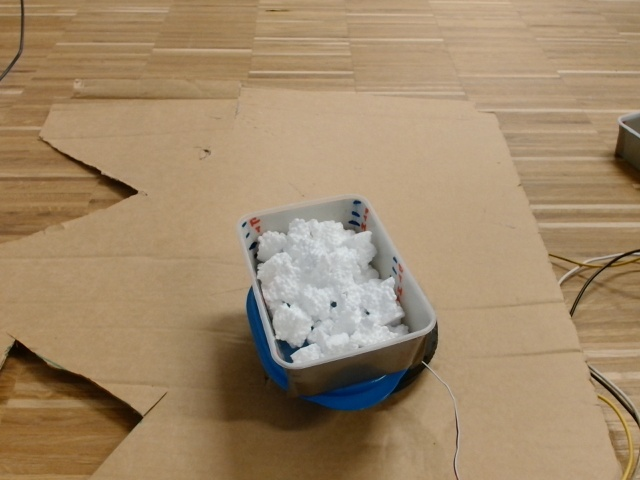Small_half: (232, 195, 436, 362)
